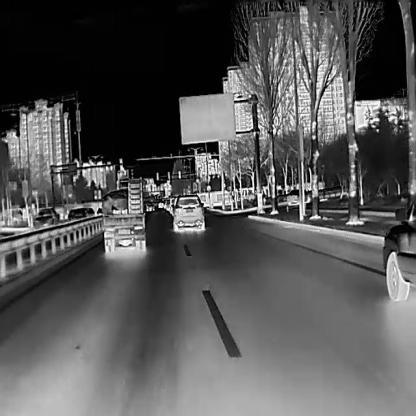car: (102, 178, 146, 253), (171, 193, 205, 232), (67, 206, 94, 234), (33, 208, 59, 233), (286, 186, 310, 205), (165, 197, 173, 211), (146, 202, 154, 211), (157, 202, 163, 207)
